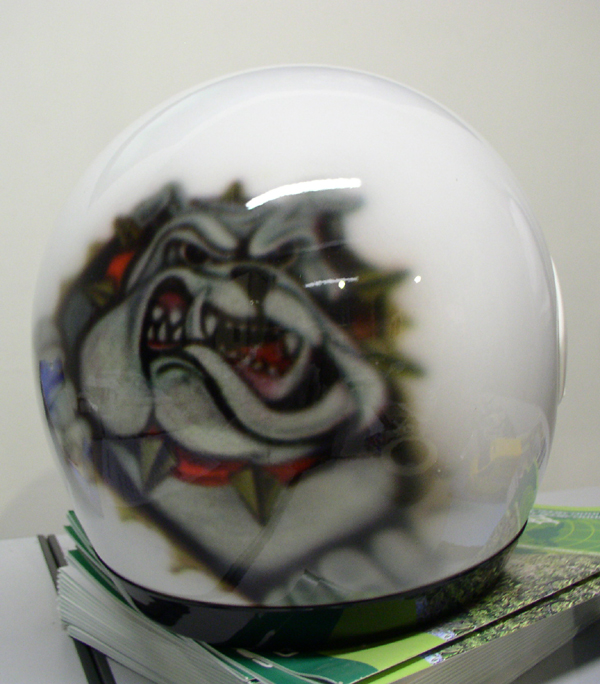helmet: (46, 85, 558, 610)
